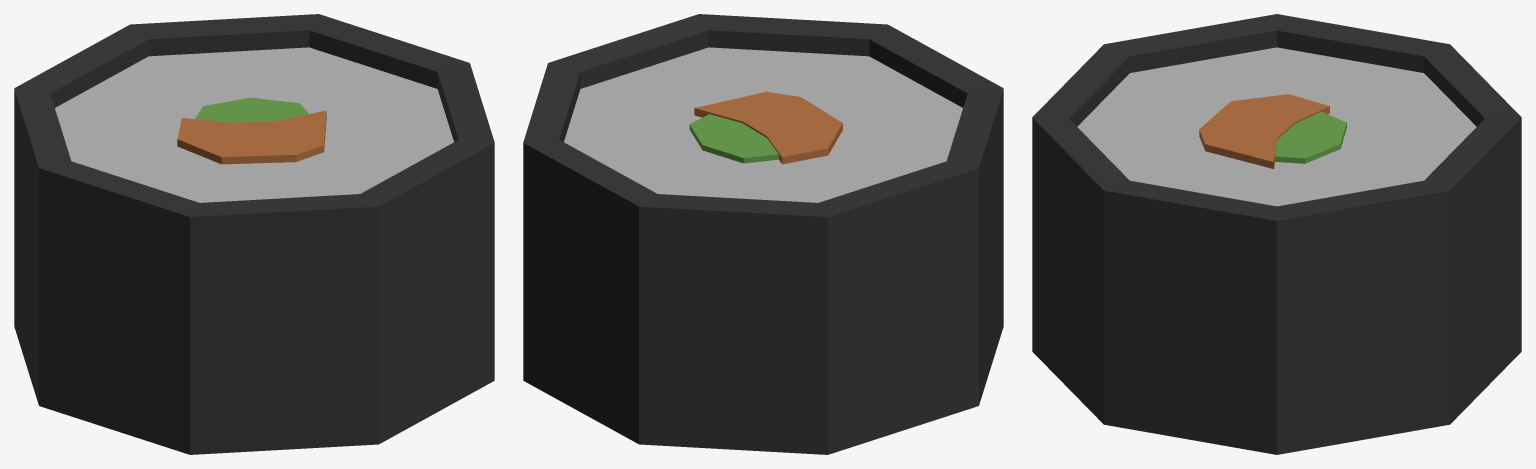
File: sushi_roll2.glb
3 renders of one model, left to right at view 1: azimuth 30°, elevation 25°; view 2: azimuth 150°, elevation 25°; view 3: azimuth 270°, elevation 25°, orthographic.
Visible parts, largest first — view 1: Sushi_Roll2; view 2: Sushi_Roll2; view 3: Sushi_Roll2.
Part boxes in pixels (x1=…): Sushi_Roll2: x1=14, y1=14, x2=494, y2=454; Sushi_Roll2: x1=523, y1=14, x2=1003, y2=454; Sushi_Roll2: x1=1032, y1=14, x2=1521, y2=454.
Bounding box in the file's own units: 0.2926 × 0.1543 × 0.2926.
